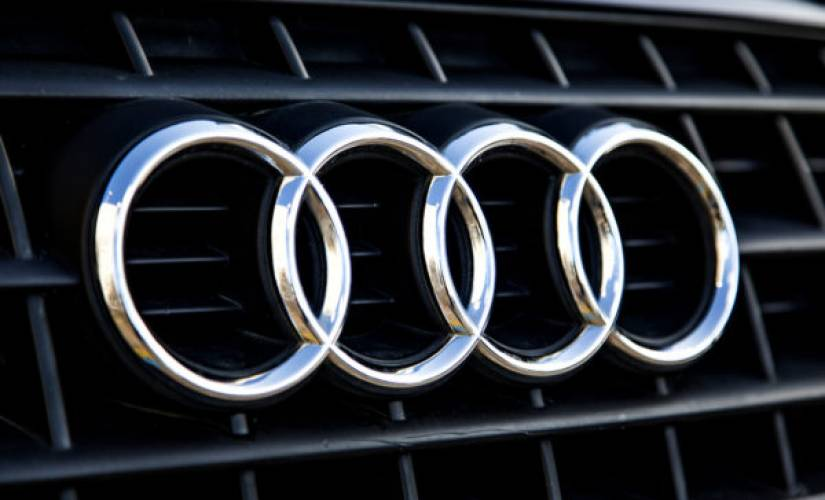audi: (81, 79, 750, 404)
